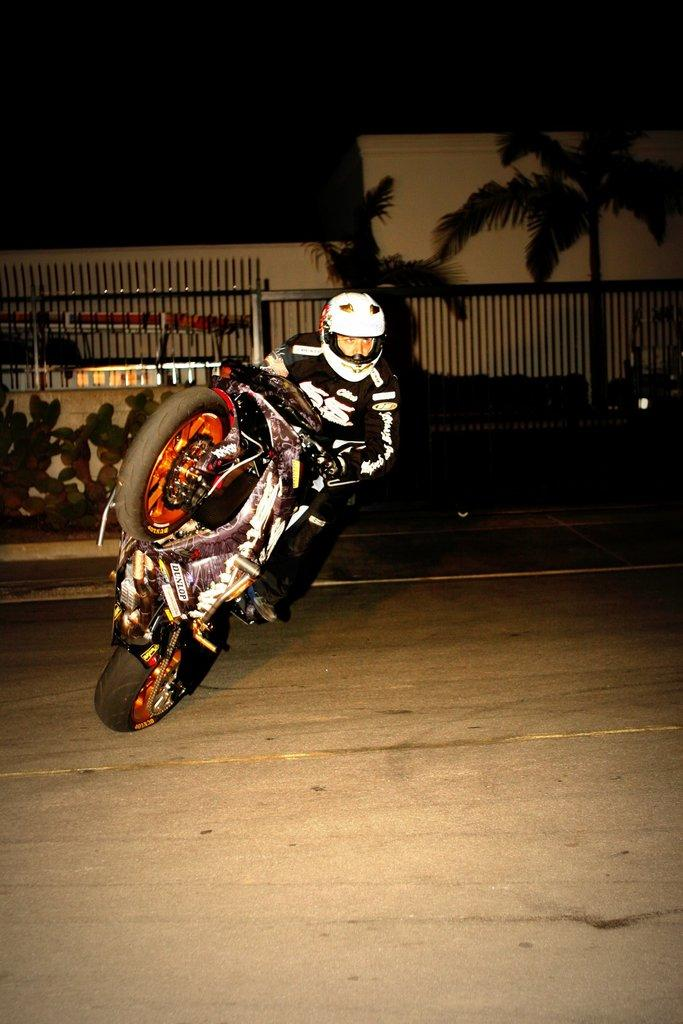helmet: (318, 292, 386, 384)
